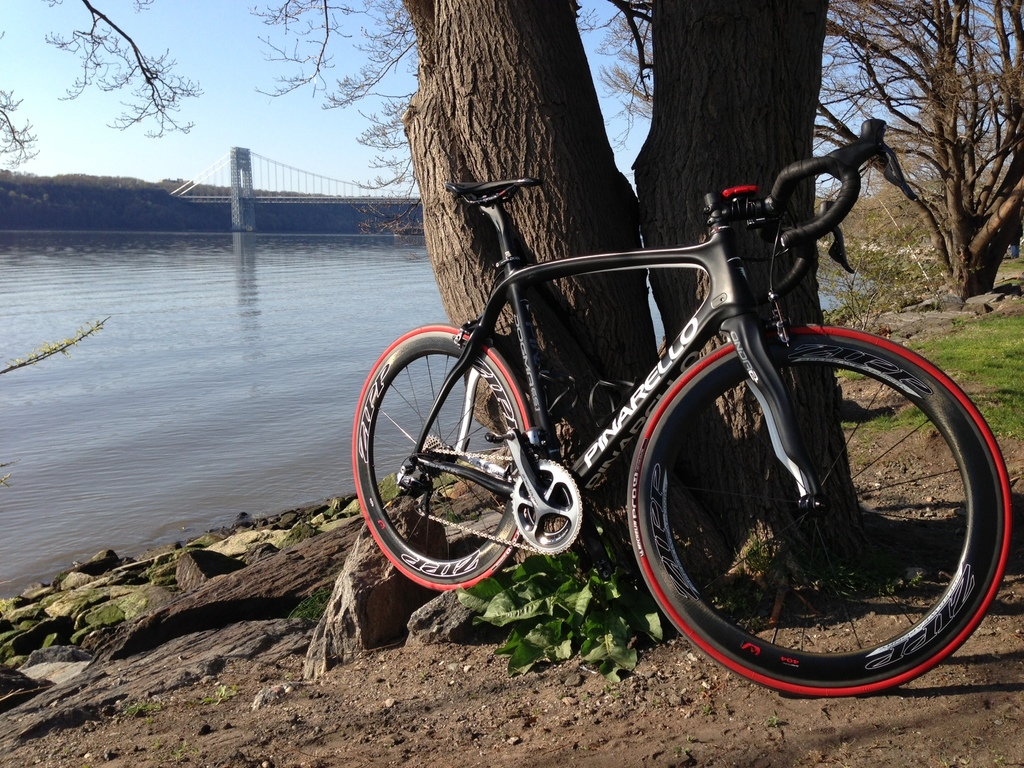Bike: (364, 176, 950, 678)
